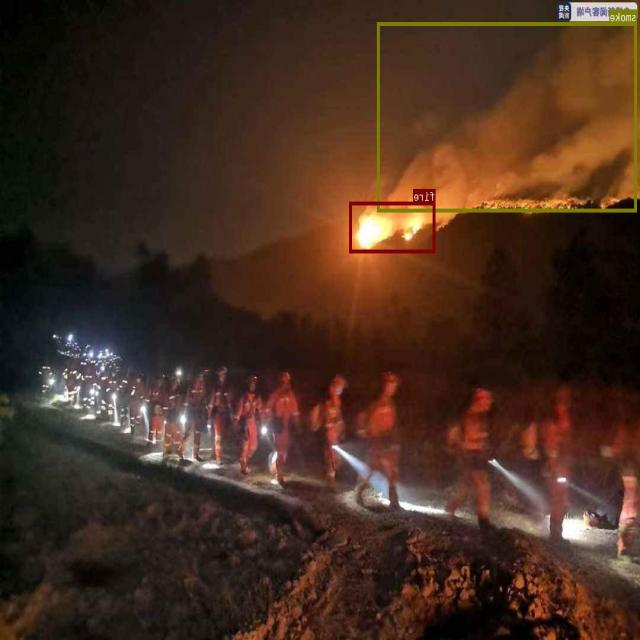fire: (350, 201, 436, 253)
smoke: (378, 21, 637, 211)
